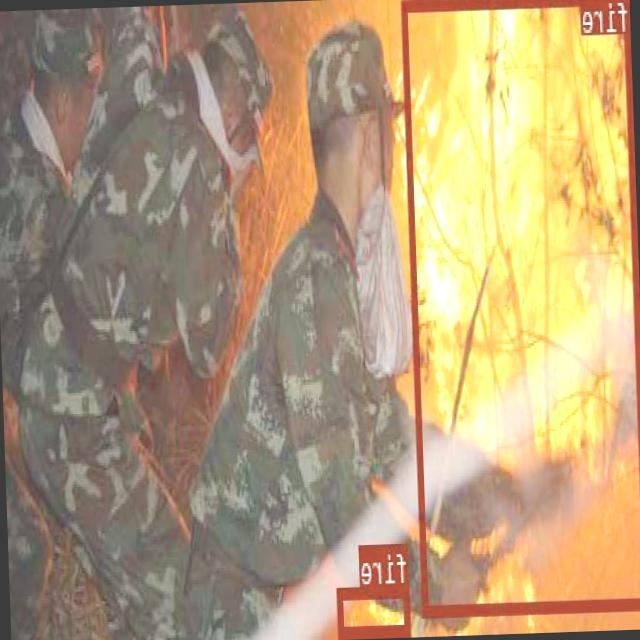fire: (402, 0, 640, 614), (338, 582, 412, 634)
